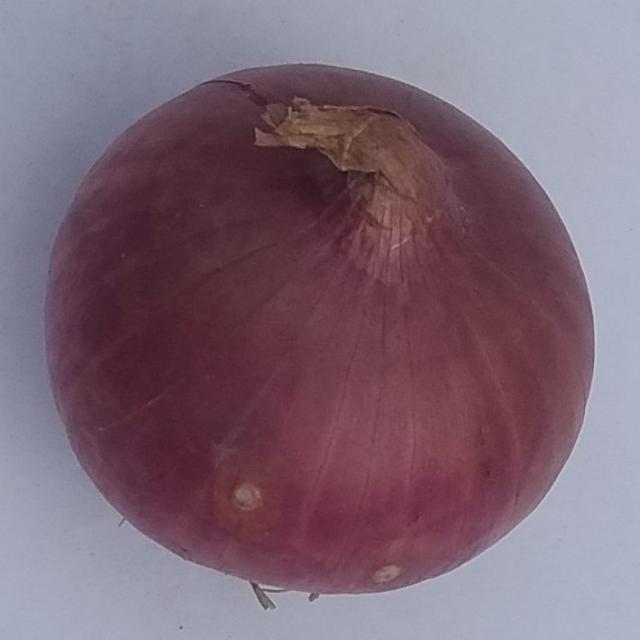onion: (41, 63, 596, 610)
